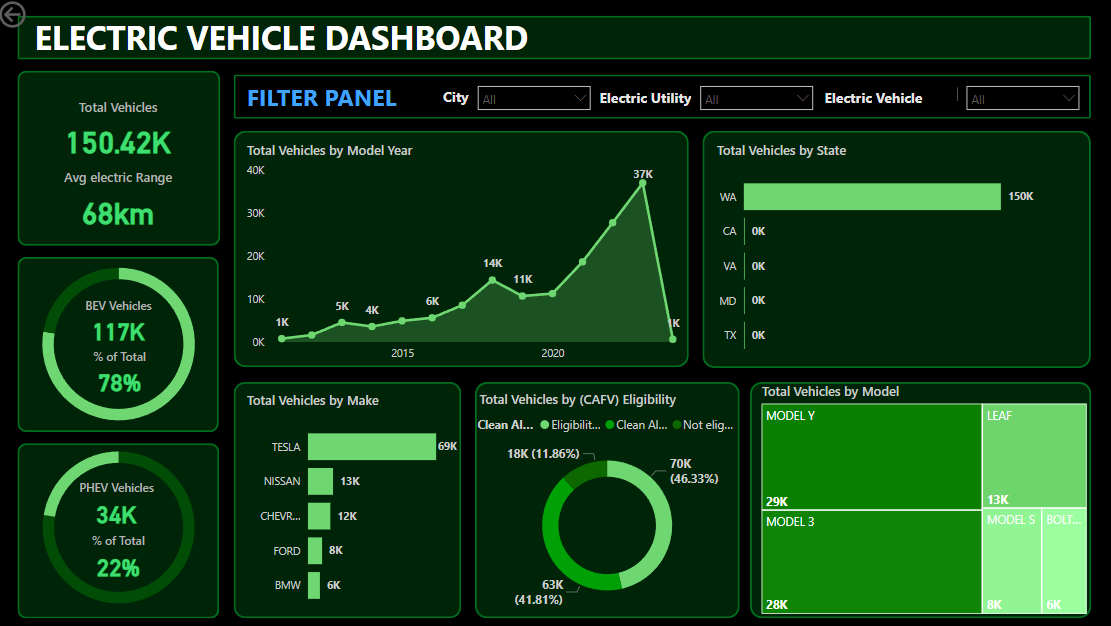

What the dashboard file says about the page in this screenshot:
{"tool":"powerbi","page":{"name":"Page 1","canvas":[1280,720],"ordinal":0},"visuals":[{"type":"shape","box":[25.3,21.7,1227,50],"z":0},{"type":"textbox","box":[39.8,15.1,599.7,76.8],"z":1000},{"type":"shape","box":[25,85,231.7,200],"z":2000},{"type":"card","title":"Avg electric Range","fields":{"Values":["Electric_Vehicle_Population_Data.Avg electric range"]},"box":[52.7,196.3,175.8,77.6],"z":3000},{"type":"shape","box":[26,297,230,200],"z":4000},{"type":"shape","box":[26.1,510.5,230.5,200.3],"z":5000},{"type":"card","title":"Total Vehicles","fields":{"Values":["Electric_Vehicle_Population_Data.Total Vehicles"]},"box":[53.4,115,175.3,76.7],"z":6000},{"type":"donutChart","fields":{"Category":["Electric_Vehicle_Population_Data.Electric Vehicle Type"],"Y":["Electric_Vehicle_Population_Data.Total Vehicles"]},"box":[2,283,280,228],"z":7000},{"type":"card","title":"BEV Vehicles","fields":{"Values":["Electric_Vehicle_Population_Data.BEV Vehicles"]},"box":[65.7,342.3,150.6,60.2],"z":8000},{"type":"card","title":"% of Total","fields":{"Values":["Electric_Vehicle_Population_Data.% of BEV"]},"box":[75,401.7,133.3,58.3],"z":9000},{"type":"donutChart","fields":{"Category":["Electric_Vehicle_Population_Data.Electric Vehicle Type"],"Y":["Electric_Vehicle_Population_Data.Total Vehicles"]},"box":[20,493,243,227],"z":10000},{"type":"card","title":"PHEV Vehicles","fields":{"Values":["Electric_Vehicle_Population_Data.PHEV Vehicles"]},"box":[63,552,152,62],"z":11000},{"type":"card","title":"% of Total","fields":{"Values":["Electric_Vehicle_Population_Data.% of PHEV"]},"box":[60,612,162,61],"z":12000},{"type":"shape","box":[272.7,153.2,520,270.2],"z":13000},{"type":"shape","box":[272.7,88.1,979.6,50.7],"z":14000},{"type":"areaChart","fields":{"Category":["Electric_Vehicle_Population_Data.Model Year"],"Y":["Electric_Vehicle_Population_Data.Total Vehicles"]},"box":[282.5,163.8,510,261.2],"z":15000},{"type":"shape","box":[808.5,153.2,443.8,271.1],"z":16000},{"type":"actionButton","box":[0,0,100,40],"z":17000},{"type":"barChart","fields":{"Category":["Electric_Vehicle_Population_Data.State"],"Y":["Electric_Vehicle_Population_Data.Total Vehicles"]},"box":[820,163.8,432.5,260],"z":18000},{"type":"shape","box":[272.5,440,260,270],"z":19000},{"type":"barChart","fields":{"Y":["Electric_Vehicle_Population_Data.Total Vehicles"],"Category":["Electric_Vehicle_Population_Data.Make"]},"box":[282.5,450,250,260],"z":20000},{"type":"shape","box":[548.8,440,302.5,270],"z":21000},{"type":"donutChart","title":"Total Vehicles by  (CAFV) Eligibility","fields":{"Category":["Electric_Vehicle_Population_Data.Clean Alternative Fuel Vehicle (CAFV) Eligibility"],"Y":["Electric_Vehicle_Population_Data.Total Vehicles"]},"box":[548.8,448.8,302.5,261.2],"z":22000},{"type":"shape","box":[862.5,440,390,270],"z":23000},{"type":"treemap","fields":{"Group":["Electric_Vehicle_Population_Data.Model"],"Values":["Electric_Vehicle_Population_Data.Total Vehicles"]},"box":[871.2,440,381.2,270],"z":24000},{"type":"textbox","box":[282.3,91.7,199.1,45.8],"z":25000},{"type":"slicer","fields":{"Values":["Electric_Vehicle_Population_Data.City"]},"box":[541.7,91.7,149.6,44.6],"z":26000},{"type":"textbox","box":[493.4,96.5,67.6,35],"z":27000},{"type":"textbox","box":[685.3,98.9,125.5,32.6],"z":27001},{"type":"textbox","box":[942.2,98.9,170.1,32.6],"z":27002},{"type":"slicer","fields":{"Values":["Electric_Vehicle_Population_Data.Electric Utility"]},"box":[796.3,91.7,149.6,44.6],"z":27003},{"type":"slicer","fields":{"Values":["Electric_Vehicle_Population_Data.Electric Vehicle Type"]},"box":[1100.3,91.7,149.6,44.6],"z":27004}]}

Visuals, with their boxes in screenshot pixels (x1, y1, x2, y2), scaled from the page's 1280x720 canvas onto the 1111x626 screenshot:
shape: 22, 19, 1087, 62
textbox: 35, 13, 555, 80
shape: 22, 74, 223, 248
"Avg electric Range" card: 46, 171, 198, 238
shape: 23, 258, 222, 432
shape: 23, 444, 223, 618
"Total Vehicles" card: 46, 100, 199, 167
donutChart - Electric_Vehicle_Population_Data.Electric Vehicle Type x Electric_Vehicle_Population_Data.Total Vehicles: 2, 246, 245, 444
"BEV Vehicles" card: 57, 298, 188, 350
"% of Total" card: 65, 349, 181, 400
donutChart - Electric_Vehicle_Population_Data.Electric Vehicle Type x Electric_Vehicle_Population_Data.Total Vehicles: 17, 429, 228, 625
"PHEV Vehicles" card: 55, 480, 187, 534
"% of Total" card: 52, 532, 193, 585
shape: 237, 133, 688, 368
shape: 237, 77, 1087, 121
areaChart - Electric_Vehicle_Population_Data.Model Year x Electric_Vehicle_Population_Data.Total Vehicles: 245, 142, 688, 370
shape: 702, 133, 1087, 369
actionButton: 0, 0, 87, 35
barChart - Electric_Vehicle_Population_Data.State x Electric_Vehicle_Population_Data.Total Vehicles: 712, 142, 1087, 368
shape: 237, 383, 462, 617
barChart - Electric_Vehicle_Population_Data.Total Vehicles x Electric_Vehicle_Population_Data.Make: 245, 391, 462, 617
shape: 476, 383, 739, 617
"Total Vehicles by  (CAFV) Eligibility" donutChart: 476, 390, 739, 617
shape: 749, 383, 1087, 617
treemap - Electric_Vehicle_Population_Data.Model x Electric_Vehicle_Population_Data.Total Vehicles: 756, 383, 1087, 617
textbox: 245, 80, 418, 120
slicer - Electric_Vehicle_Population_Data.City: 470, 80, 600, 119
textbox: 428, 84, 487, 114
textbox: 595, 86, 704, 114
textbox: 818, 86, 965, 114
slicer - Electric_Vehicle_Population_Data.Electric Utility: 691, 80, 821, 119
slicer - Electric_Vehicle_Population_Data.Electric Vehicle Type: 955, 80, 1085, 119
